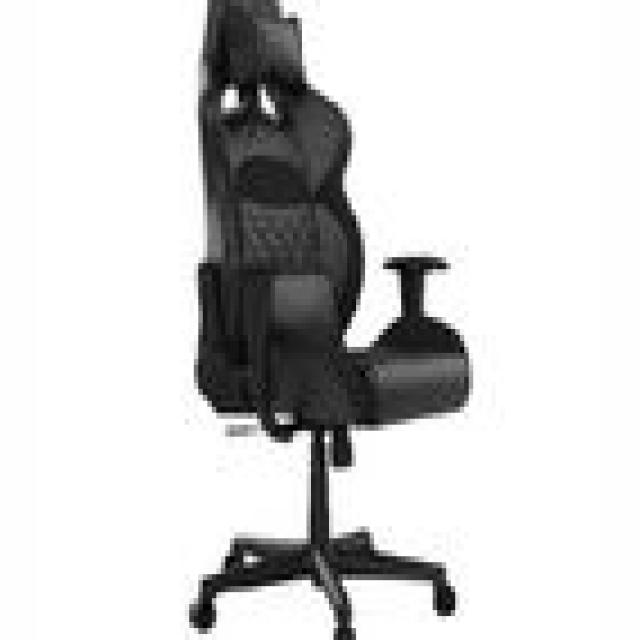others: (149, 6, 505, 634)
